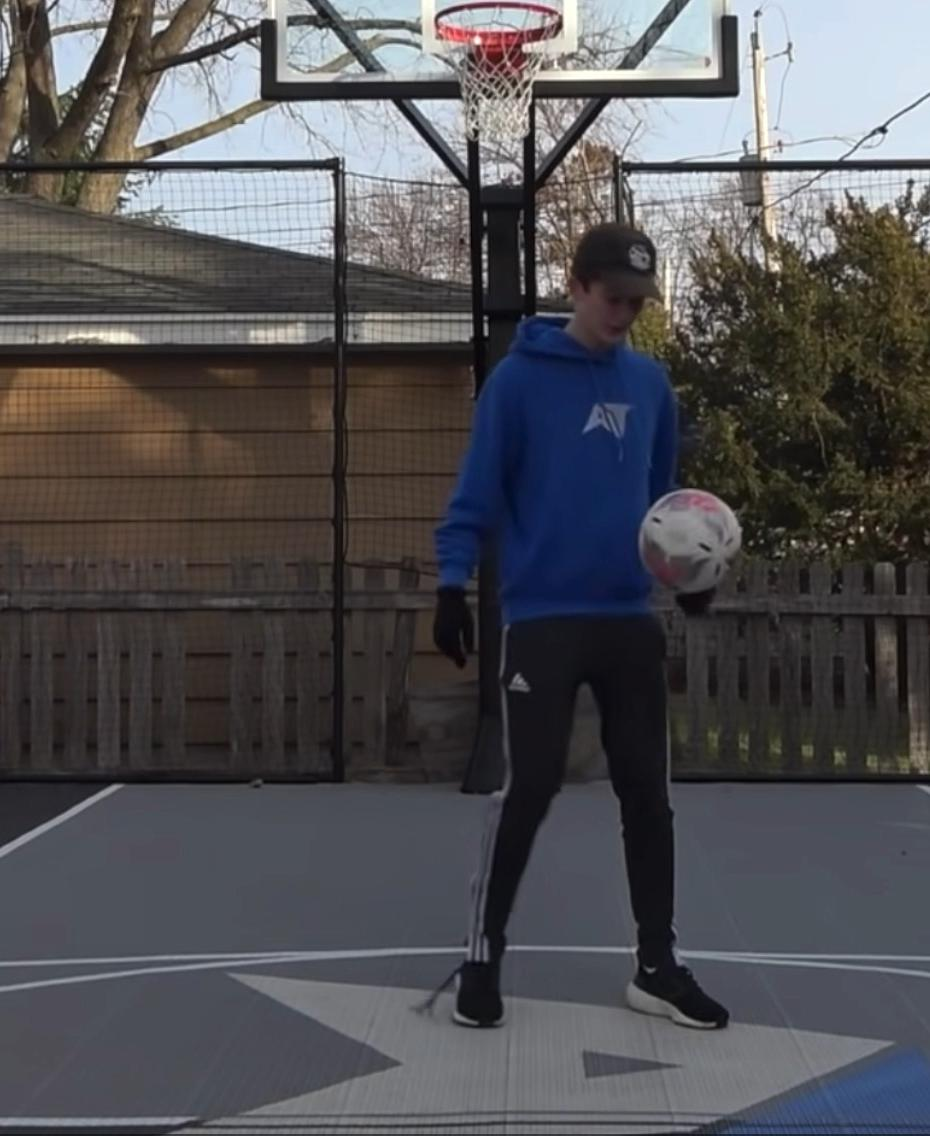ball: (640, 486, 739, 592)
foot: (625, 957, 734, 1029), (448, 950, 510, 1030)
person: (430, 224, 729, 1036)
